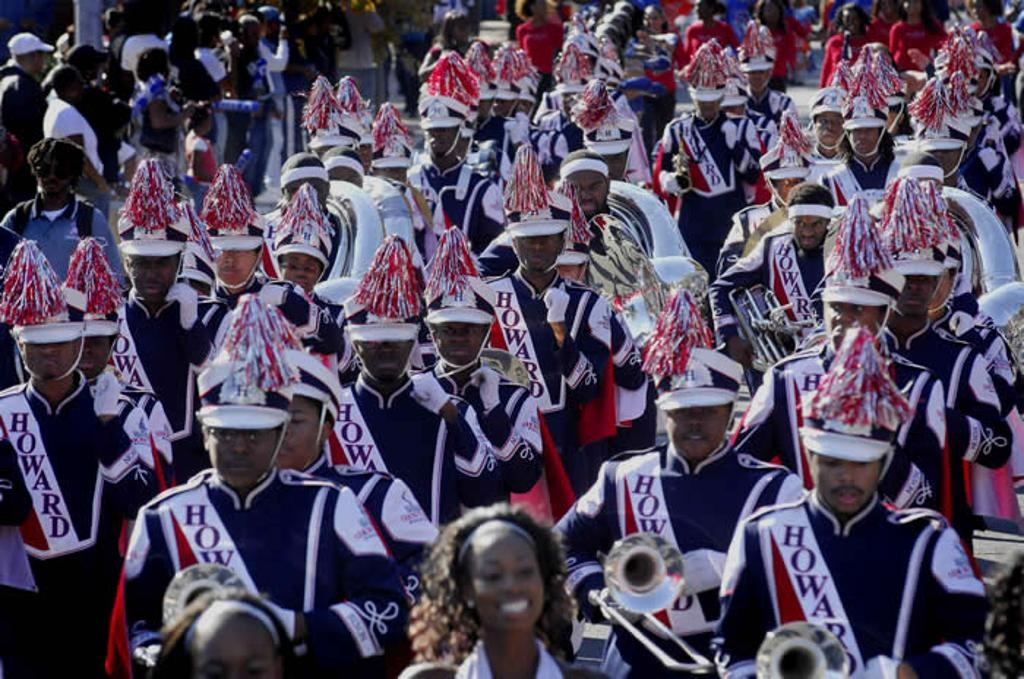human_face: (475, 535, 543, 631), (195, 622, 275, 678), (263, 394, 321, 468), (811, 448, 879, 510), (208, 423, 276, 485), (664, 399, 728, 457), (886, 260, 936, 314), (358, 329, 410, 380), (828, 300, 876, 352), (22, 334, 78, 376), (436, 318, 484, 366), (128, 250, 178, 296), (566, 166, 606, 216), (918, 262, 954, 312), (214, 244, 254, 286), (514, 232, 560, 268), (284, 176, 326, 214), (70, 336, 110, 374), (34, 160, 70, 198), (324, 164, 358, 204), (282, 249, 316, 288), (927, 143, 961, 177), (814, 109, 846, 145), (791, 210, 823, 244), (850, 120, 882, 154), (592, 147, 626, 179), (425, 122, 457, 154), (378, 161, 406, 195), (347, 136, 373, 172), (872, 106, 898, 136), (486, 95, 512, 121), (965, 66, 989, 94), (562, 90, 584, 120), (465, 94, 489, 118), (777, 178, 801, 202), (696, 92, 720, 114), (746, 65, 766, 89), (64, 73, 82, 97), (724, 95, 742, 117), (642, 10, 660, 32), (762, 0, 778, 24), (960, 122, 976, 146), (513, 97, 531, 117), (974, 0, 990, 22), (842, 8, 858, 30), (158, 55, 170, 81), (29, 49, 43, 71), (692, 0, 710, 17), (902, 0, 922, 15), (244, 22, 258, 43), (268, 14, 280, 34), (198, 113, 210, 132)
